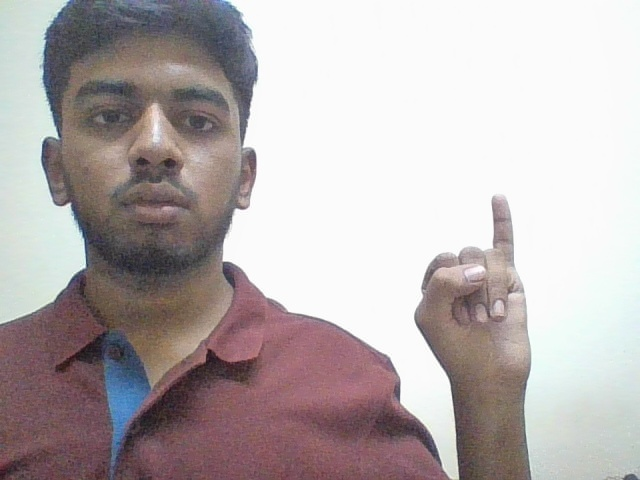I: (407, 175, 560, 402)
